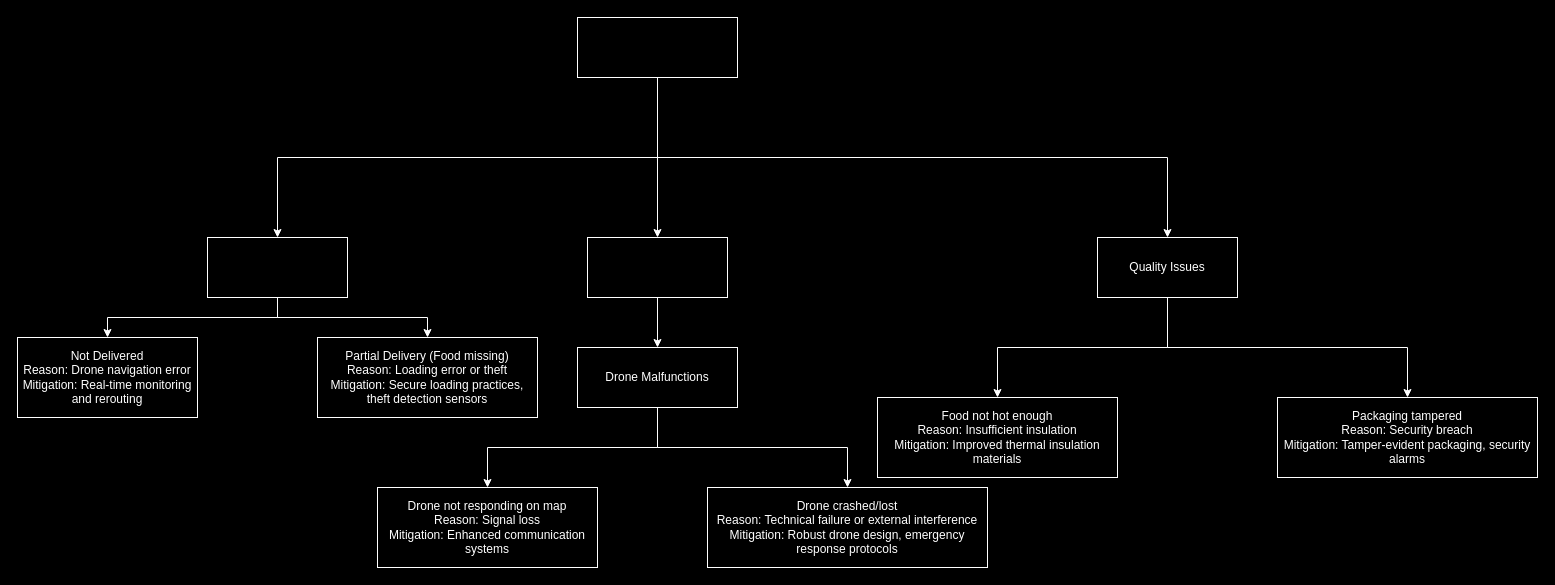
Image size: 1555x585. Some labels were removed from this diagram. The centre of each missing label's shape, as x and y in pixels:
"Customer Escalations" belongs at point (657, 47).
"Delivery Issues" belongs at point (277, 267).
"Technical Issues" belongs at point (657, 267).
